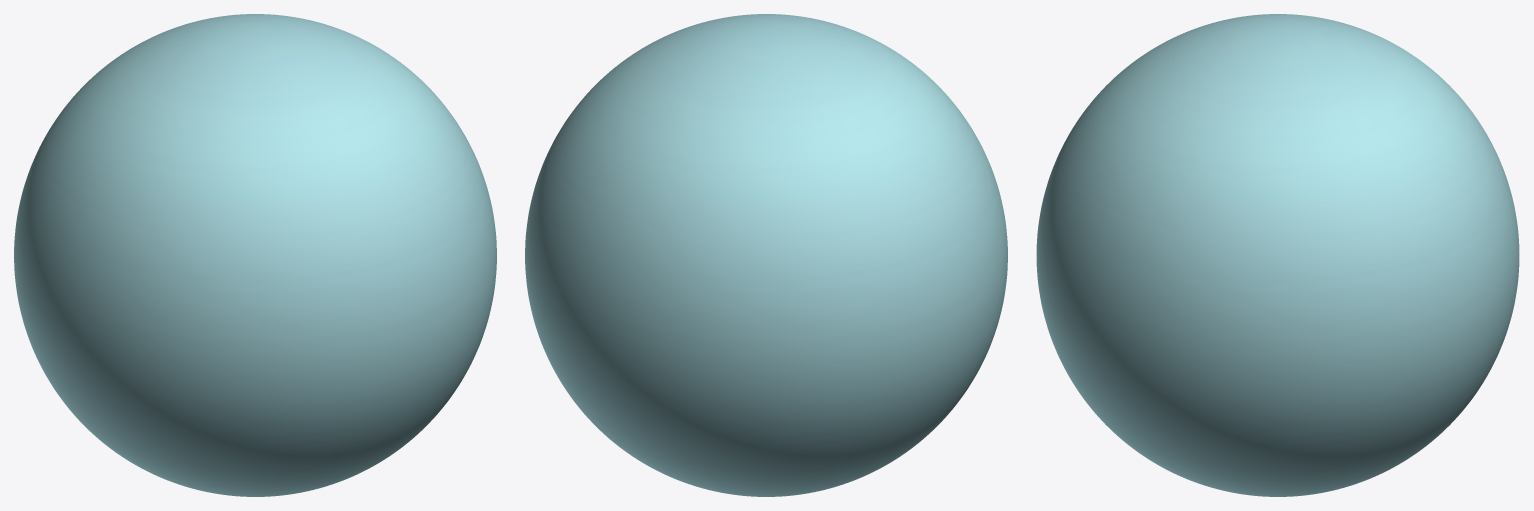
Rendered from uranus.glb.
3 renders of one model, left to right at view 1: azimuth 30°, elevation 25°; view 2: azimuth 150°, elevation 25°; view 3: azimuth 270°, elevation 25°, orthographic.
Parts seen in each view (by area): view 1: Earth; view 2: Earth; view 3: Earth.
Part boxes in pixels (x1=…): Earth: x1=14, y1=14, x2=496, y2=496; Earth: x1=525, y1=14, x2=1007, y2=496; Earth: x1=1036, y1=14, x2=1519, y2=496.
Size of the model in its own units: 100 by 100 by 100.
1 material, 1 textured.
